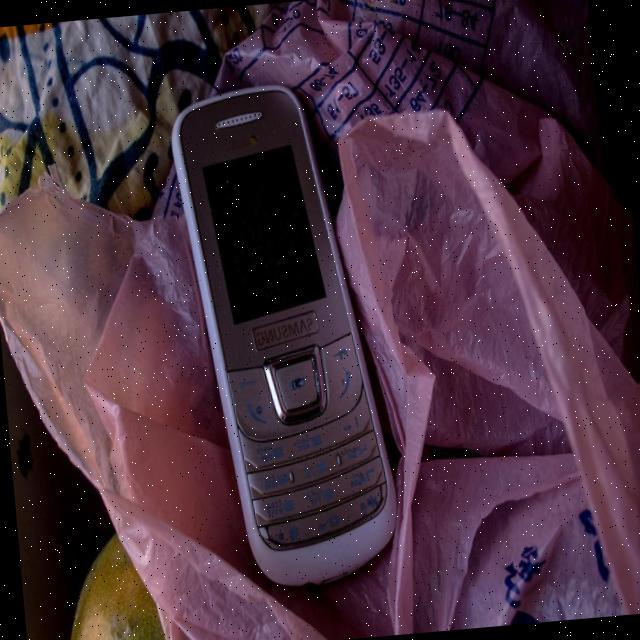Phone: (165, 74, 406, 594)
